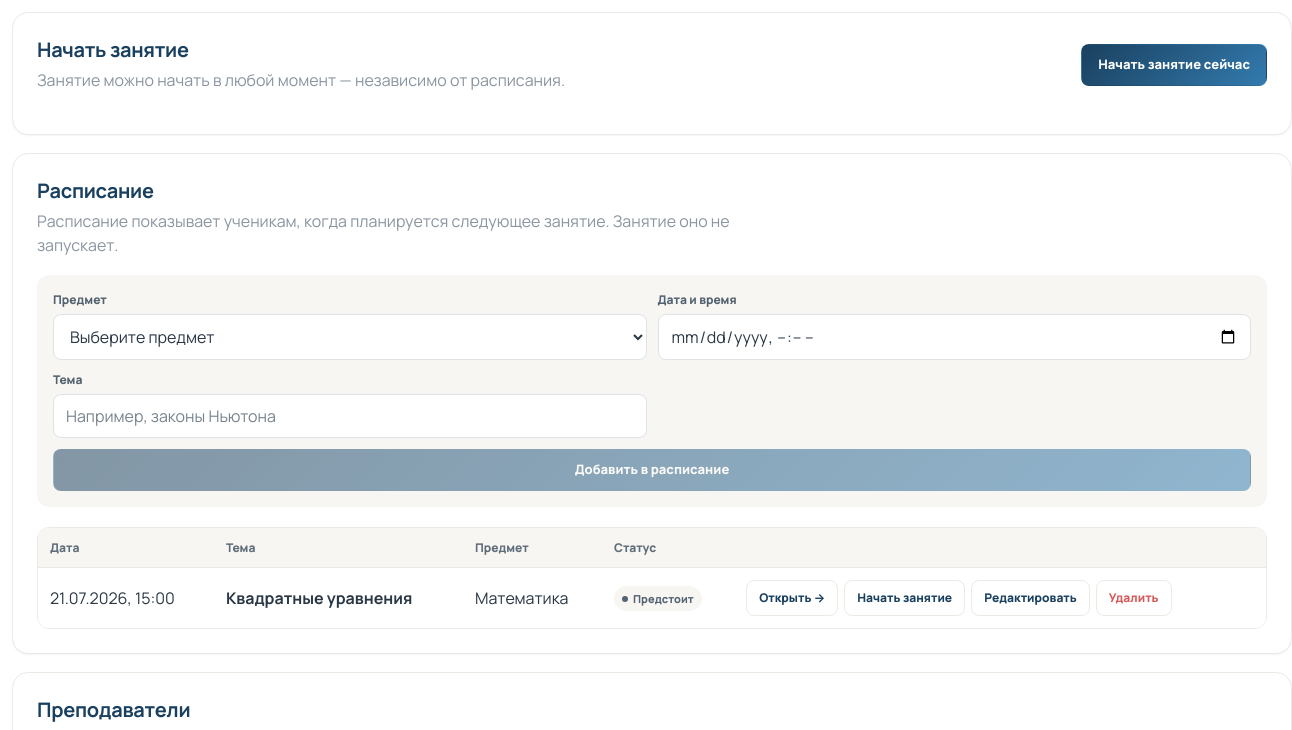
Test: показывает подготовку только после открытия занятия
Check: the heading "Расписание" is shown, box left=37, top=177, right=154, bottom=204
Check: the text "Подготовка занятия" is not shown
Step 1. Click the button "Открыть →" → (792, 598), box left=746, top=580, right=838, bottom=616
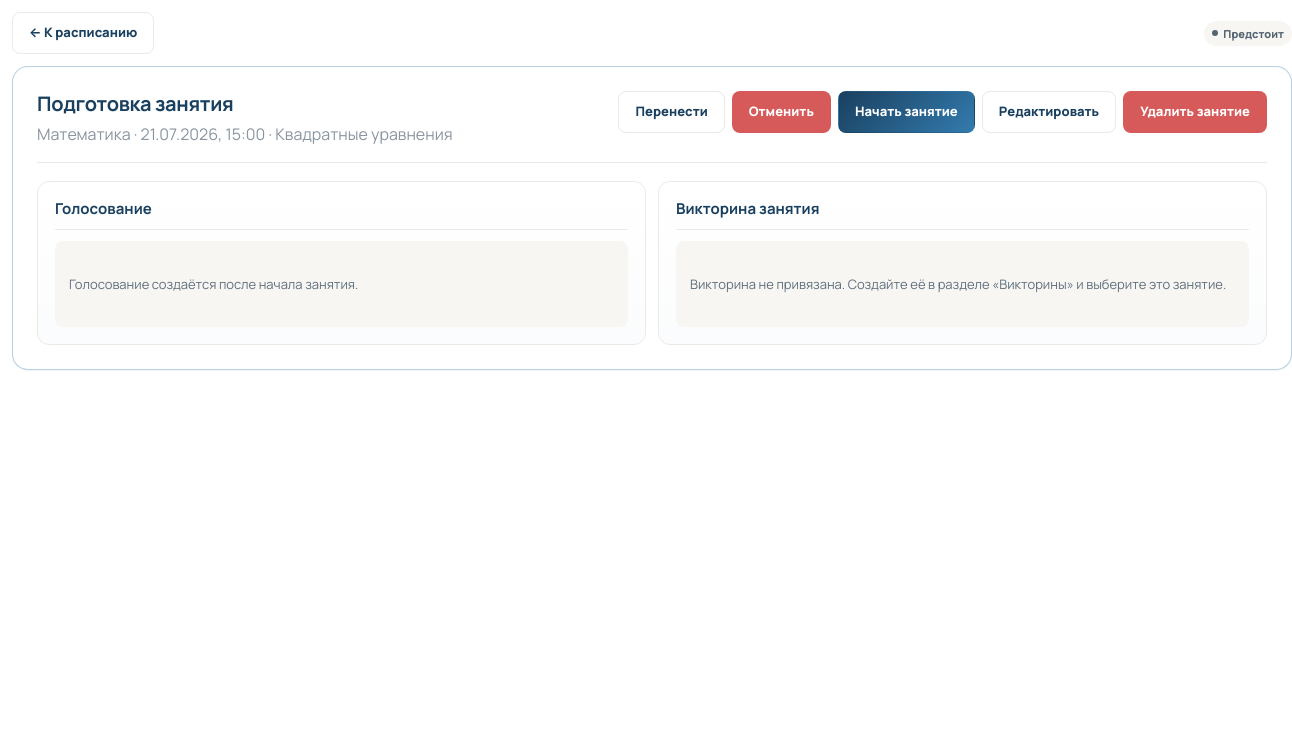
Check: the heading "Подготовка занятия" is shown, box left=37, top=90, right=233, bottom=117
Check: the button "← К расписанию" is shown, box left=12, top=12, right=154, bottom=54
Check: the heading "Расписание" is gone
